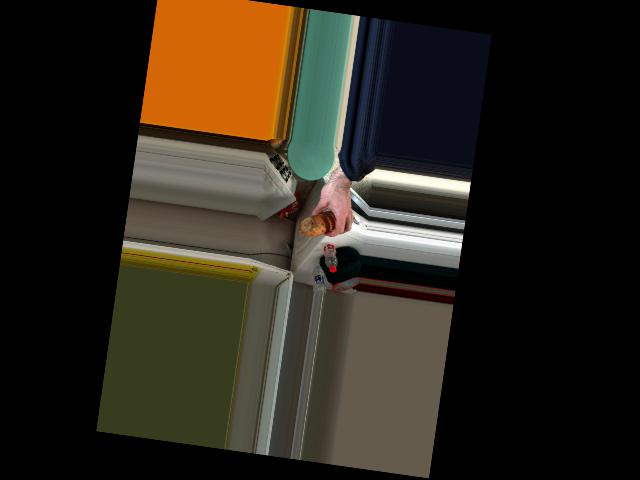sweet_potato: (305, 208, 336, 239)
